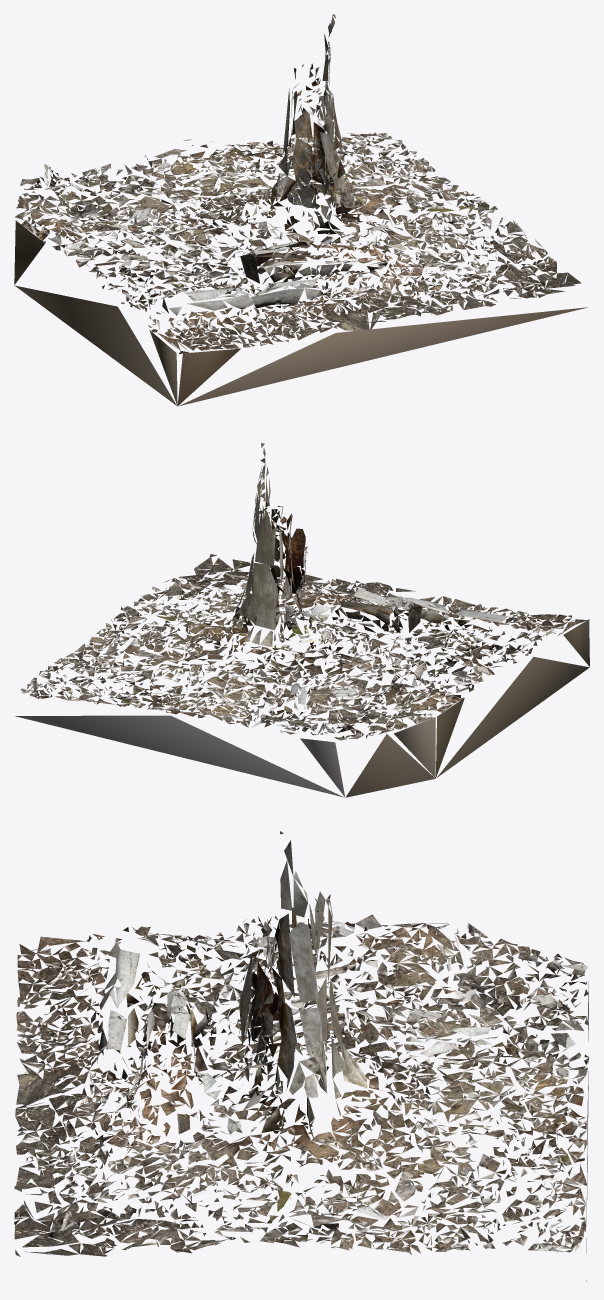
File: arbo_destroyed_forest.glb
3 renders of one model, top to bottom at view 1: azimuth 30°, elevation 25°; view 2: azimuth 150°, elevation 25°; view 3: azimuth 270°, elevation 25°, orthographic. The views are drawn at different scales.
Parts seen in each view (by area): view 1: Object_2; view 2: Object_2; view 3: Object_2.
Boxes of the visible parts, x1,y1,x2,y2 form: Object_2: [14, 14, 587, 406]; Object_2: [15, 443, 589, 797]; Object_2: [14, 831, 589, 1281].
Bounding box in the file's own units: 4.5 × 2.71 × 4.
Materials: 4 (4 with a texture image).
